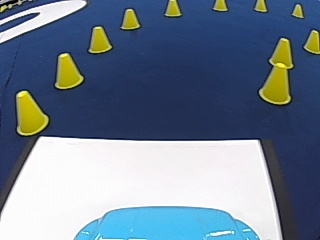cone: (257, 49, 293, 103), (14, 89, 49, 135), (54, 51, 83, 88), (269, 37, 293, 68), (88, 24, 111, 53), (120, 7, 139, 29), (303, 29, 319, 53), (164, 0, 181, 17), (291, 3, 304, 18), (253, 0, 267, 12), (212, 0, 227, 11)
